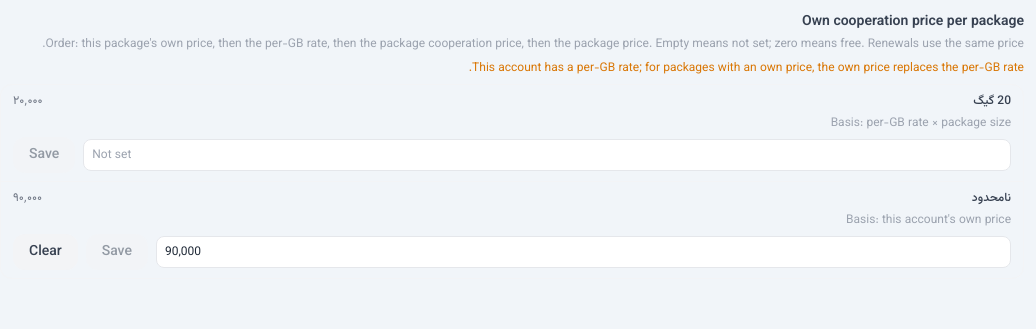
Test: own package prices › a refused save shows the server's reason
The width and height of the screenshot is (1036, 329).
Type "1" into the field with placeholder "Not set" at {"x": 547, "y": 155}, box [83,139,1011,171]
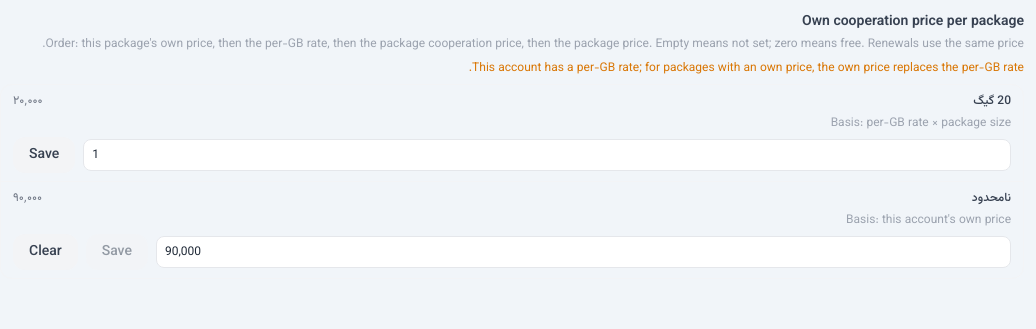
Click the button "Save" below "۲۰٬۰۰۰" at {"x": 44, "y": 155}, box [13,137,75,173]
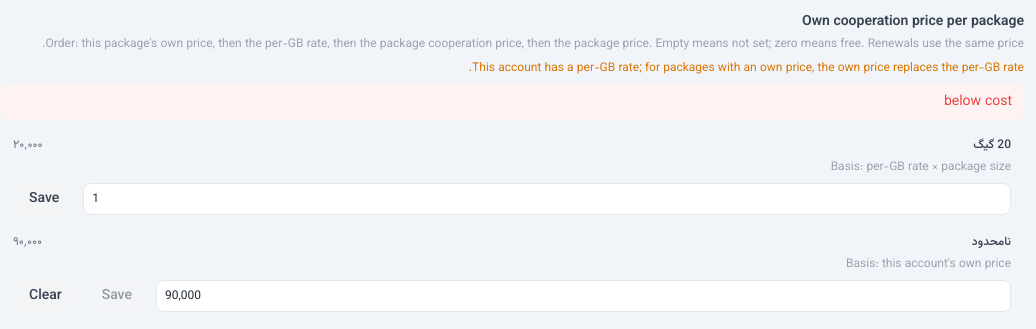
Now the text "below cost" is shown, box [0,84,1024,120]
